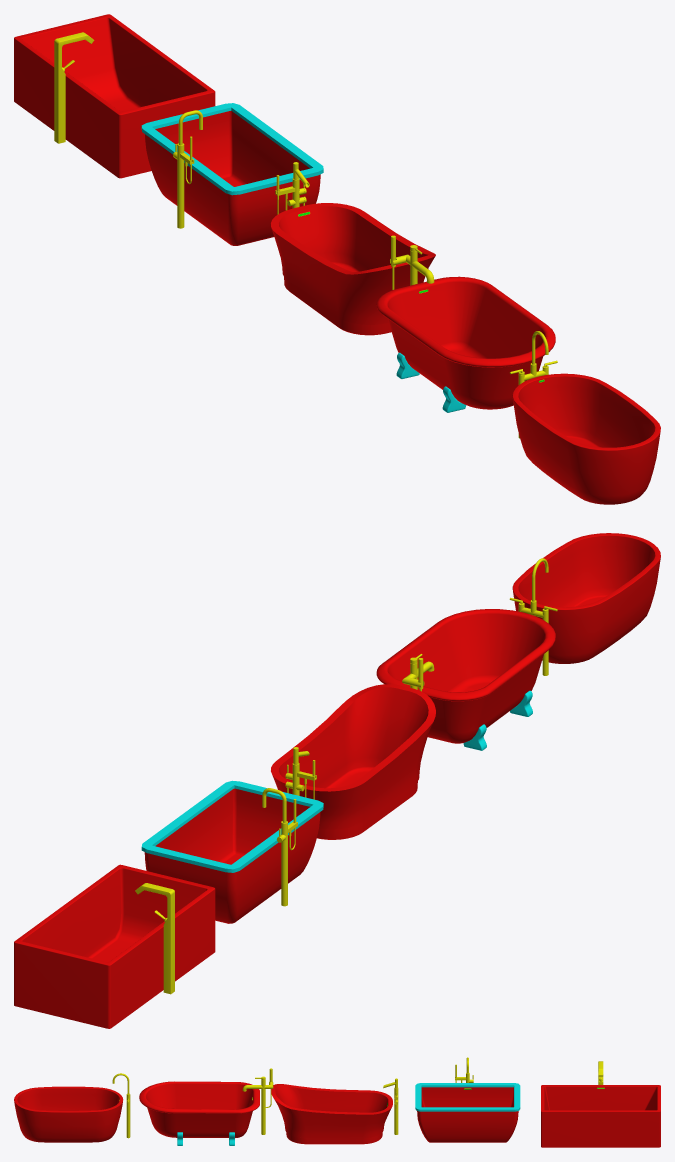
Rendered from MT_bathtubs_grp.fbx.
The picture shows the model from 3 angles, top to bottom: view 1: azimuth 30°, elevation 25°; view 2: azimuth 150°, elevation 25°; view 3: azimuth 270°, elevation 25°; orthographic projection. The views are drawn at different scales.
Visible parts, largest first — view 1: bathtub_5, bathtub_2, bathtub_4, bathtub_1, bathtub_3; view 2: bathtub_5, bathtub_3, bathtub_4, bathtub_2, bathtub_1; view 3: bathtub_5, bathtub_2, bathtub_3, bathtub_4, bathtub_1.
Boxes of the visible parts, x1,y1,x2,y2 form: bathtub_5: (14,14,215,178); bathtub_2: (376,235,555,412); bathtub_4: (141,103,323,245); bathtub_1: (509,331,660,504); bathtub_3: (271,162,435,335); bathtub_5: (14,864,215,1028); bathtub_3: (271,684,435,839); bathtub_4: (141,780,323,923); bathtub_2: (376,609,555,750); bathtub_1: (509,533,660,675); bathtub_5: (541,1061,660,1147); bathtub_2: (139,1068,273,1145); bathtub_3: (271,1078,398,1144); bathtub_4: (415,1057,520,1142); bathtub_1: (14,1073,130,1142).
Size of the model in its own units: 139 by 132 by 1215.
